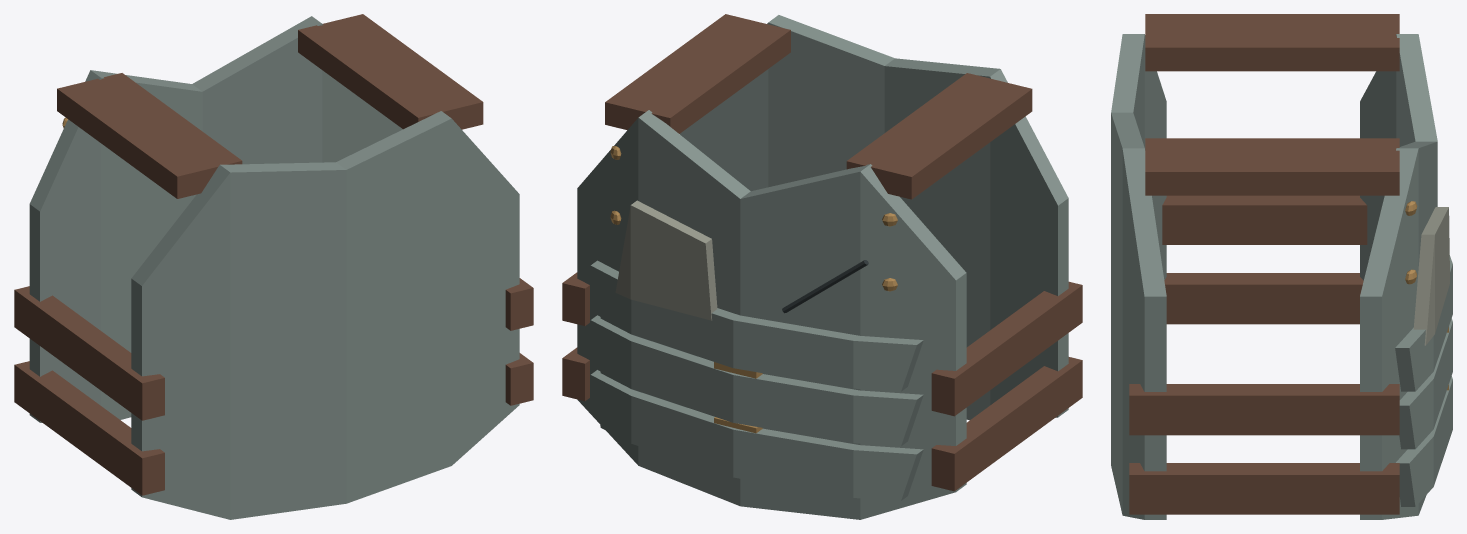
File: AE_Item_VeteranCuirass.fbx
The picture shows the model from 3 angles, left to right: view 1: azimuth 30°, elevation 25°; view 2: azimuth 150°, elevation 25°; view 3: azimuth 270°, elevation 25°; orthographic projection. The views are drawn at different scales.
Parts seen in each view (by area): view 1: AE_Item_VeteranCuirass; view 2: AE_Item_VeteranCuirass; view 3: AE_Item_VeteranCuirass.
Part boxes in pixels (box(x1,y1,x2,y2)): AE_Item_VeteranCuirass: box(14, 14, 533, 519); AE_Item_VeteranCuirass: box(562, 14, 1082, 519); AE_Item_VeteranCuirass: box(1111, 14, 1452, 519).
Bounding box in the file's own units: 0.601 × 0.52 × 0.43.
